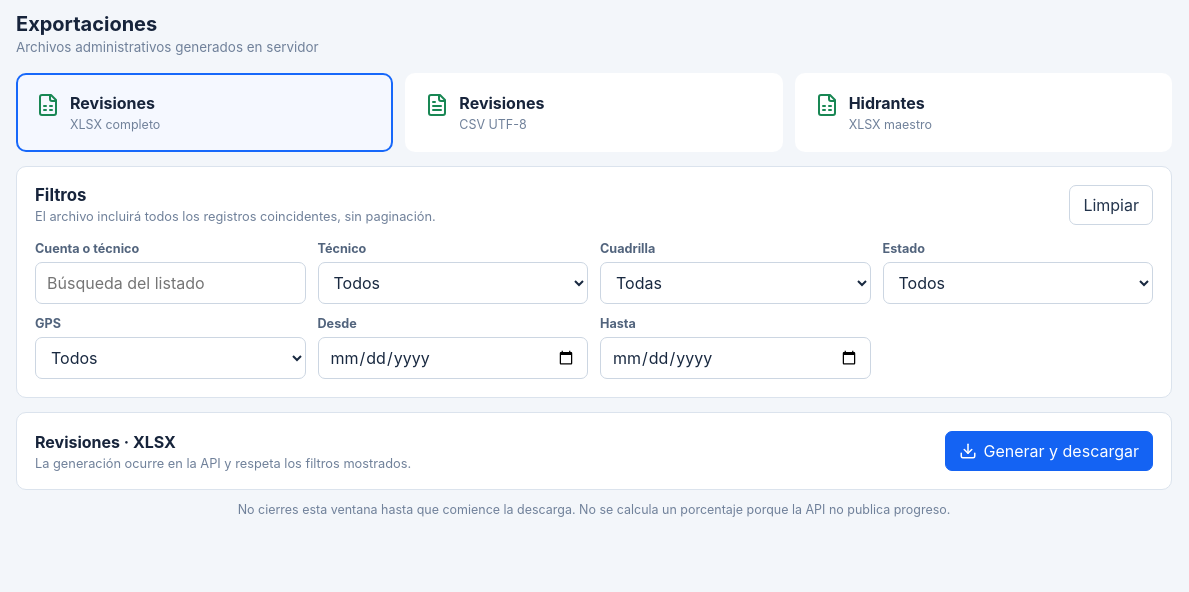
Test: ExportView › selecciona CSV y entrega esa selección al servicio
This screenshot has width=1189, height=592.
Step 1. Click the button with class "format" showing "Revisiones CSV UTF-8" → click(502, 103), box x1=405 y1=73 x2=783 y2=152
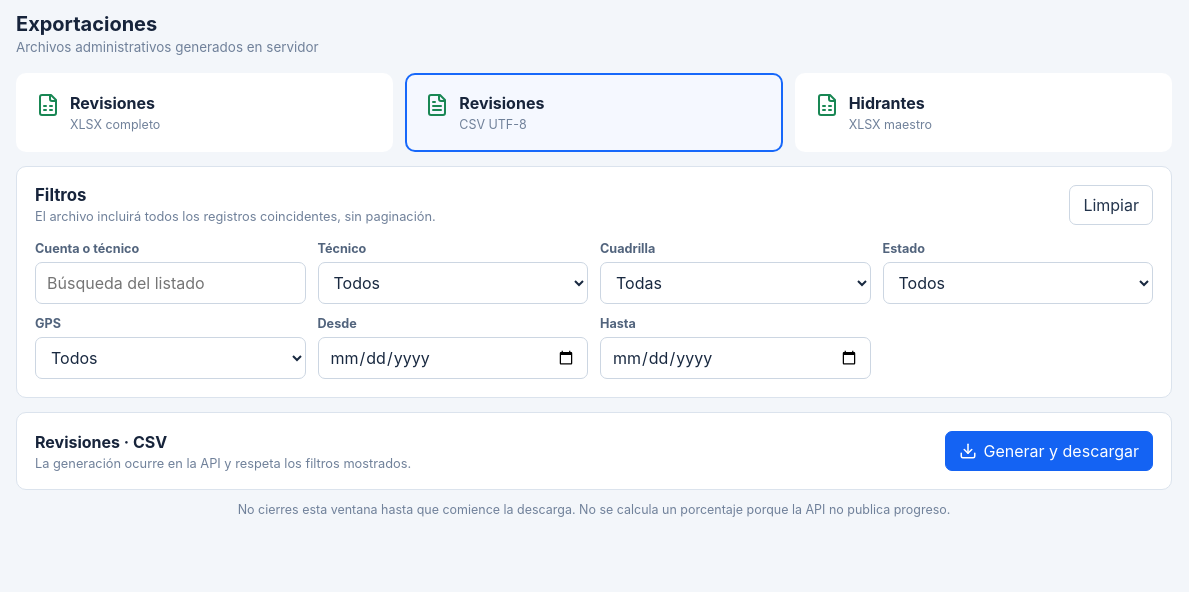
Step 2. Click the button "Generar y descargar" → click(1049, 451), box x1=944 y1=431 x2=1153 y2=471
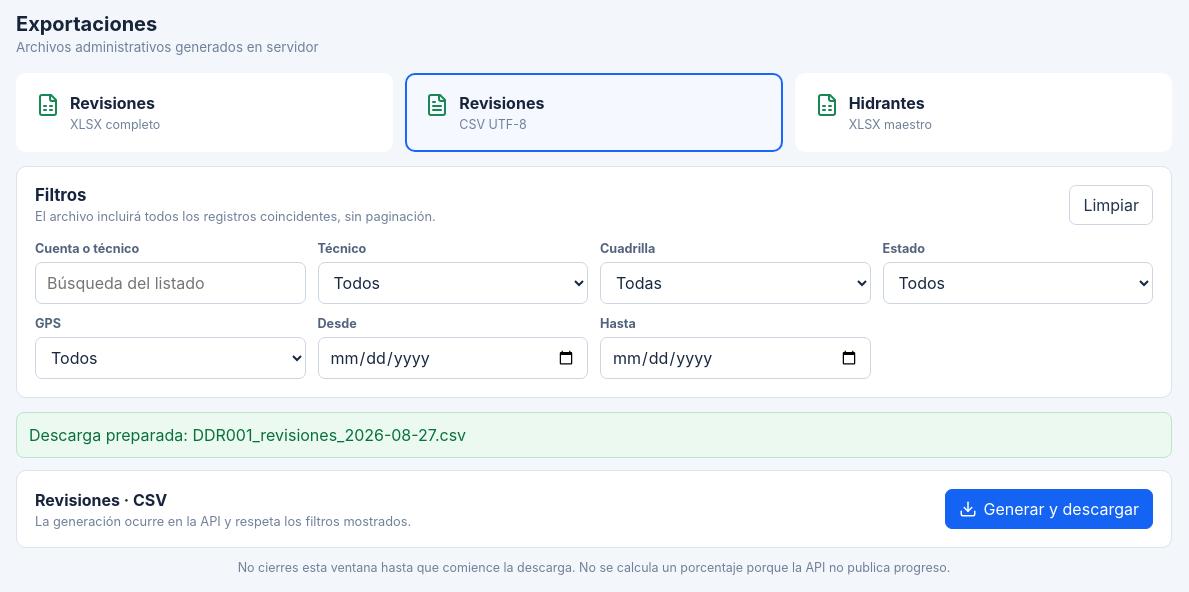
Expected: the message "Descarga preparada: DDR001_revisiones_2026-08-27.csv" is shown, x1=16 y1=412 x2=1172 y2=458
